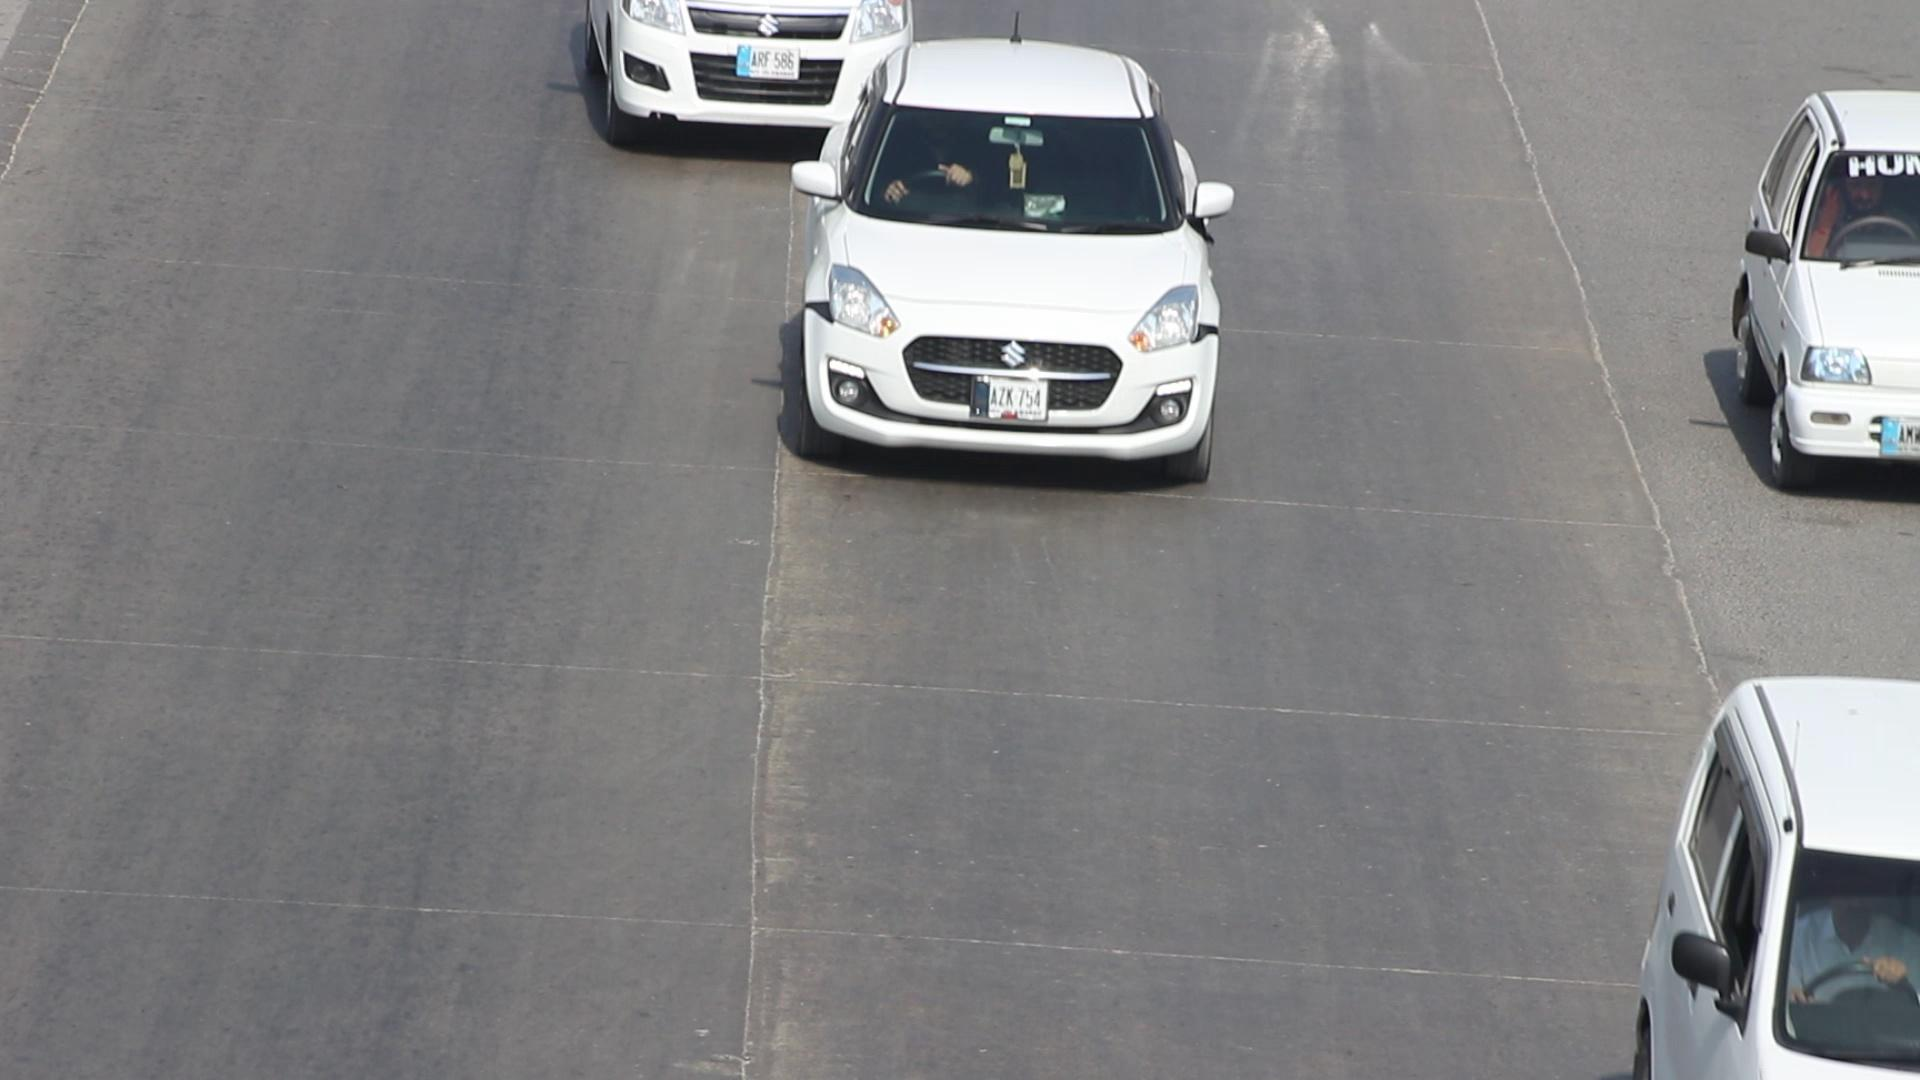windshield: (837, 90, 1187, 251)
